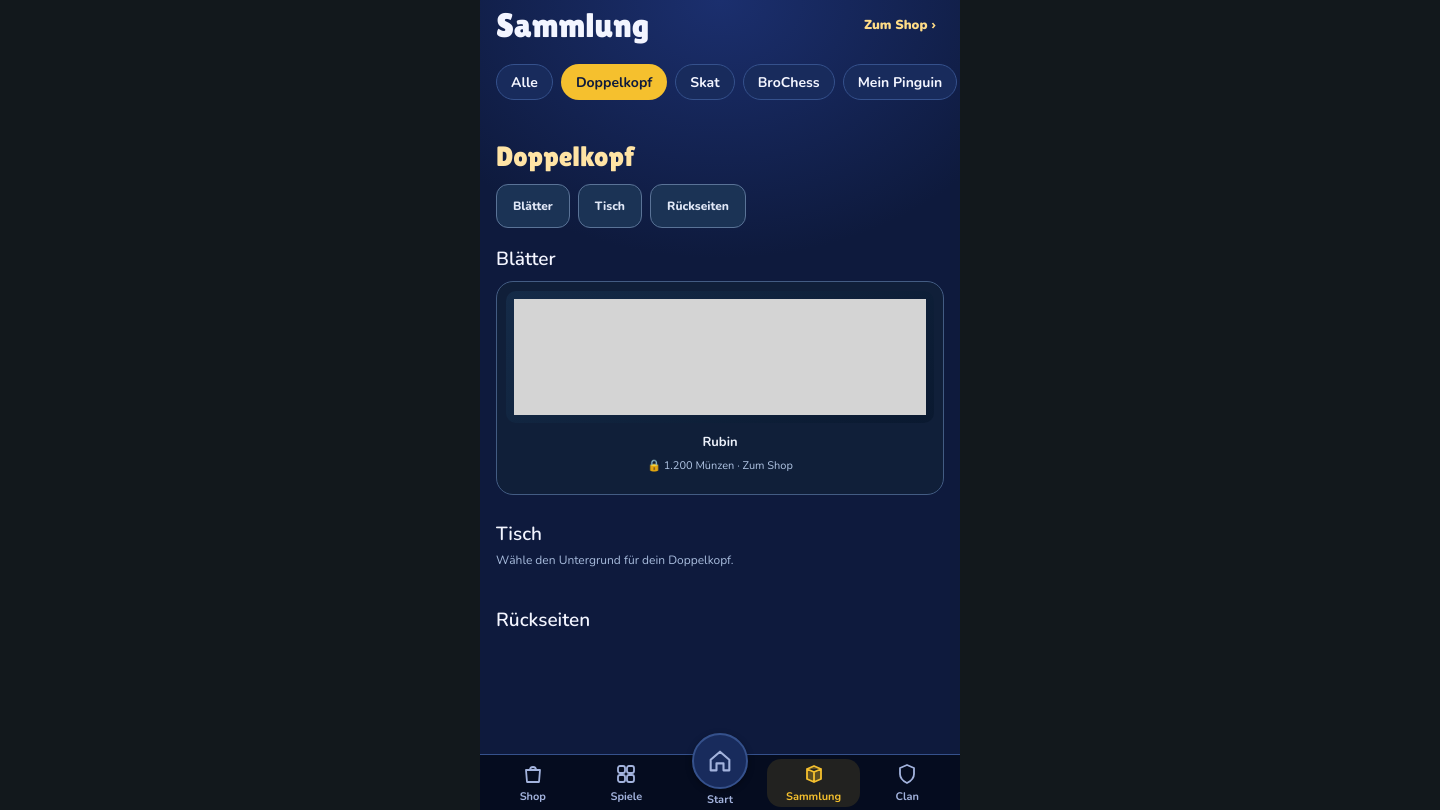
Neues Hub: die restlichen Ansichten › führt bei fremden Designs aus der Sammlung zum Shop und kauft dort nicht ungefragt
The width and height of the screenshot is (1440, 810).
Click the button "Rubin 🔒 1.200 Münzen · Zum Shop" at coordinates (720, 388), box [496,281,944,495]
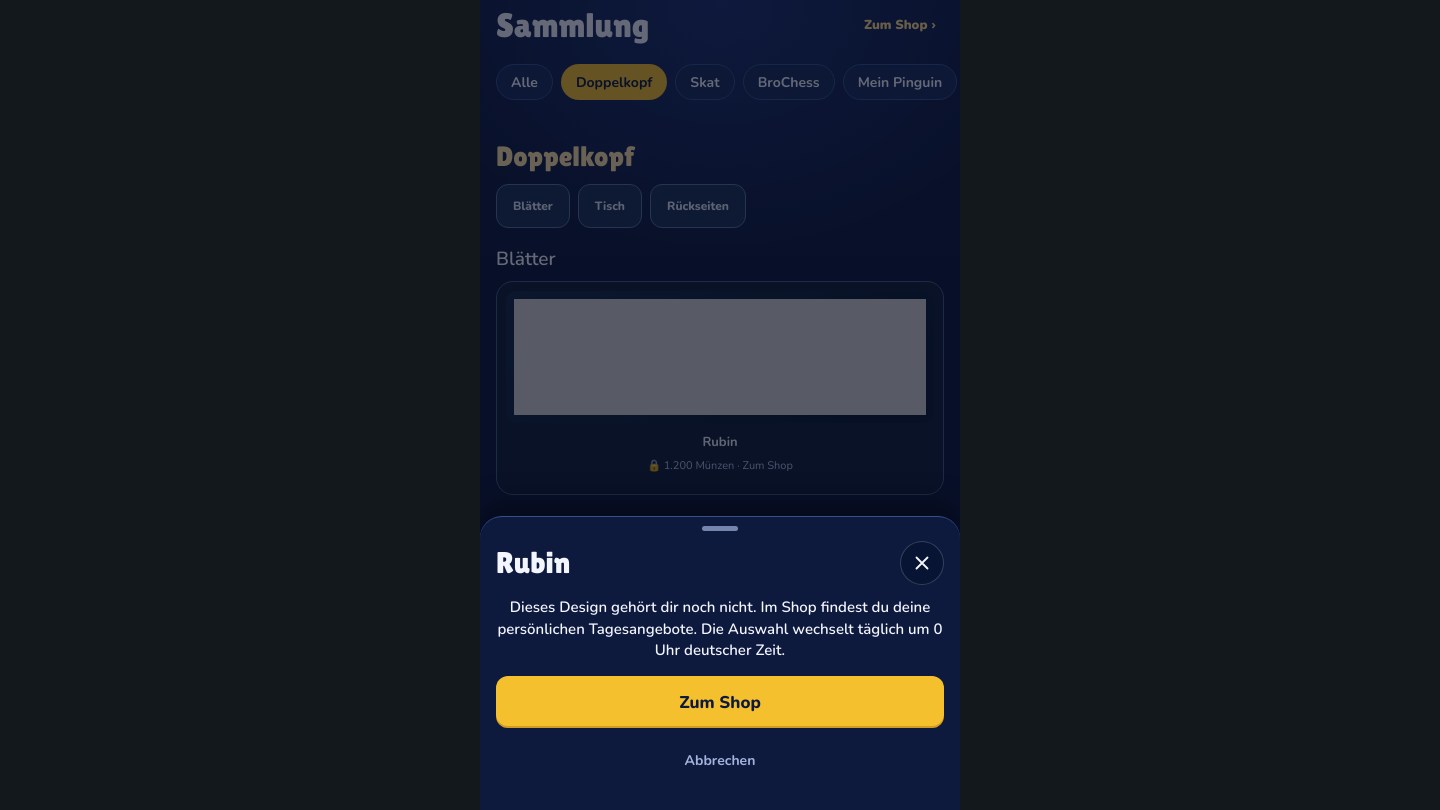
Result: the dialog "Rubin" is shown at [480,516,960,809]
Click the button "Zum Shop" at coordinates (720, 702), box [496,676,944,728]
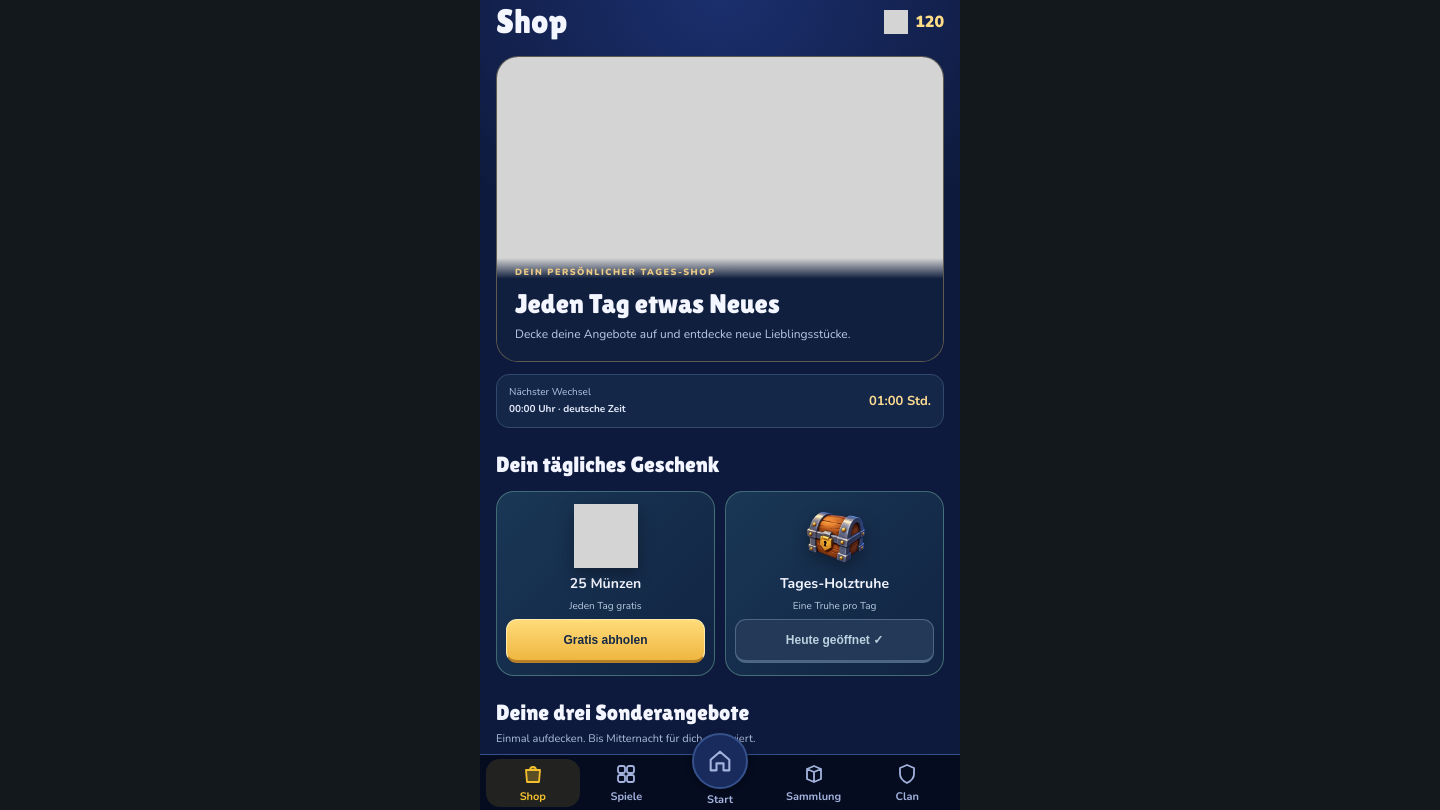
Result: the heading "Shop" is shown at [496,4,567,40]
